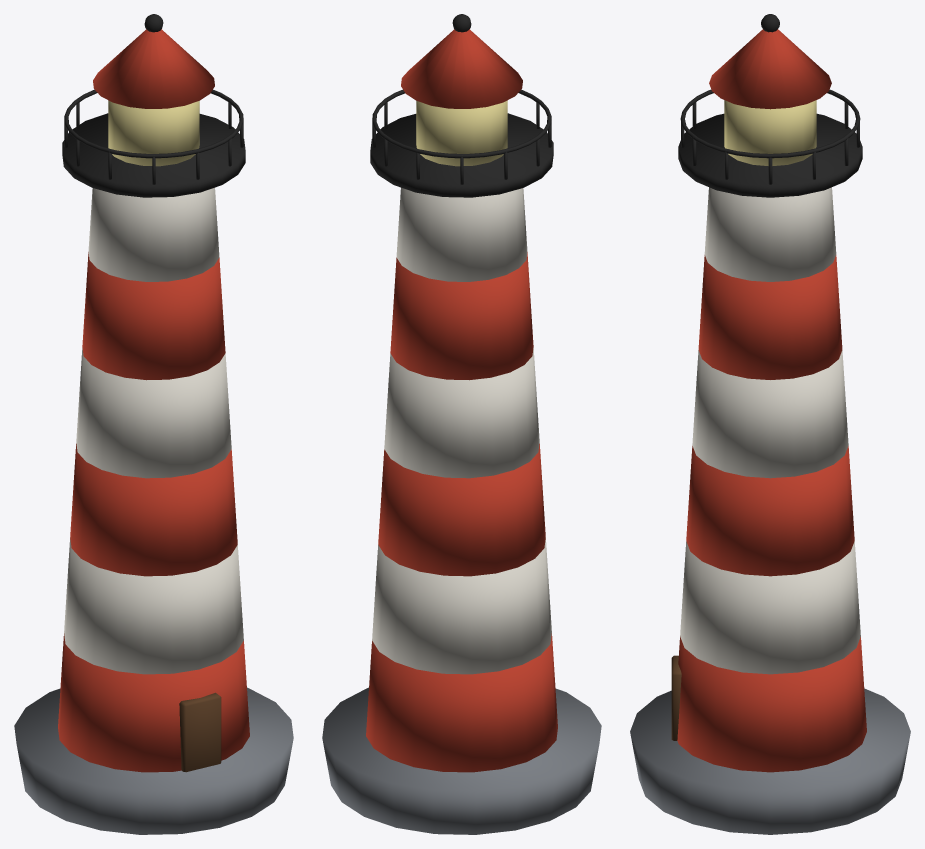
File: lighthouse.glb
The picture shows the model from 3 angles, left to right: view 1: azimuth 30°, elevation 25°; view 2: azimuth 150°, elevation 25°; view 3: azimuth 270°, elevation 25°; orthographic projection.
Parts seen in each view (by area): view 1: Lighthouse, Glow; view 2: Lighthouse, Glow; view 3: Lighthouse, Glow.
Boxes of the visible parts, <box> form: Lighthouse: <box>14,14,293,834</box>; Glow: <box>108,100,199,166</box>; Lighthouse: <box>322,14,601,834</box>; Glow: <box>416,100,507,166</box>; Lighthouse: <box>630,14,910,834</box>; Glow: <box>724,100,816,165</box>.
Size of the model in its own units: 6.4 by 19.22 by 6.4.
